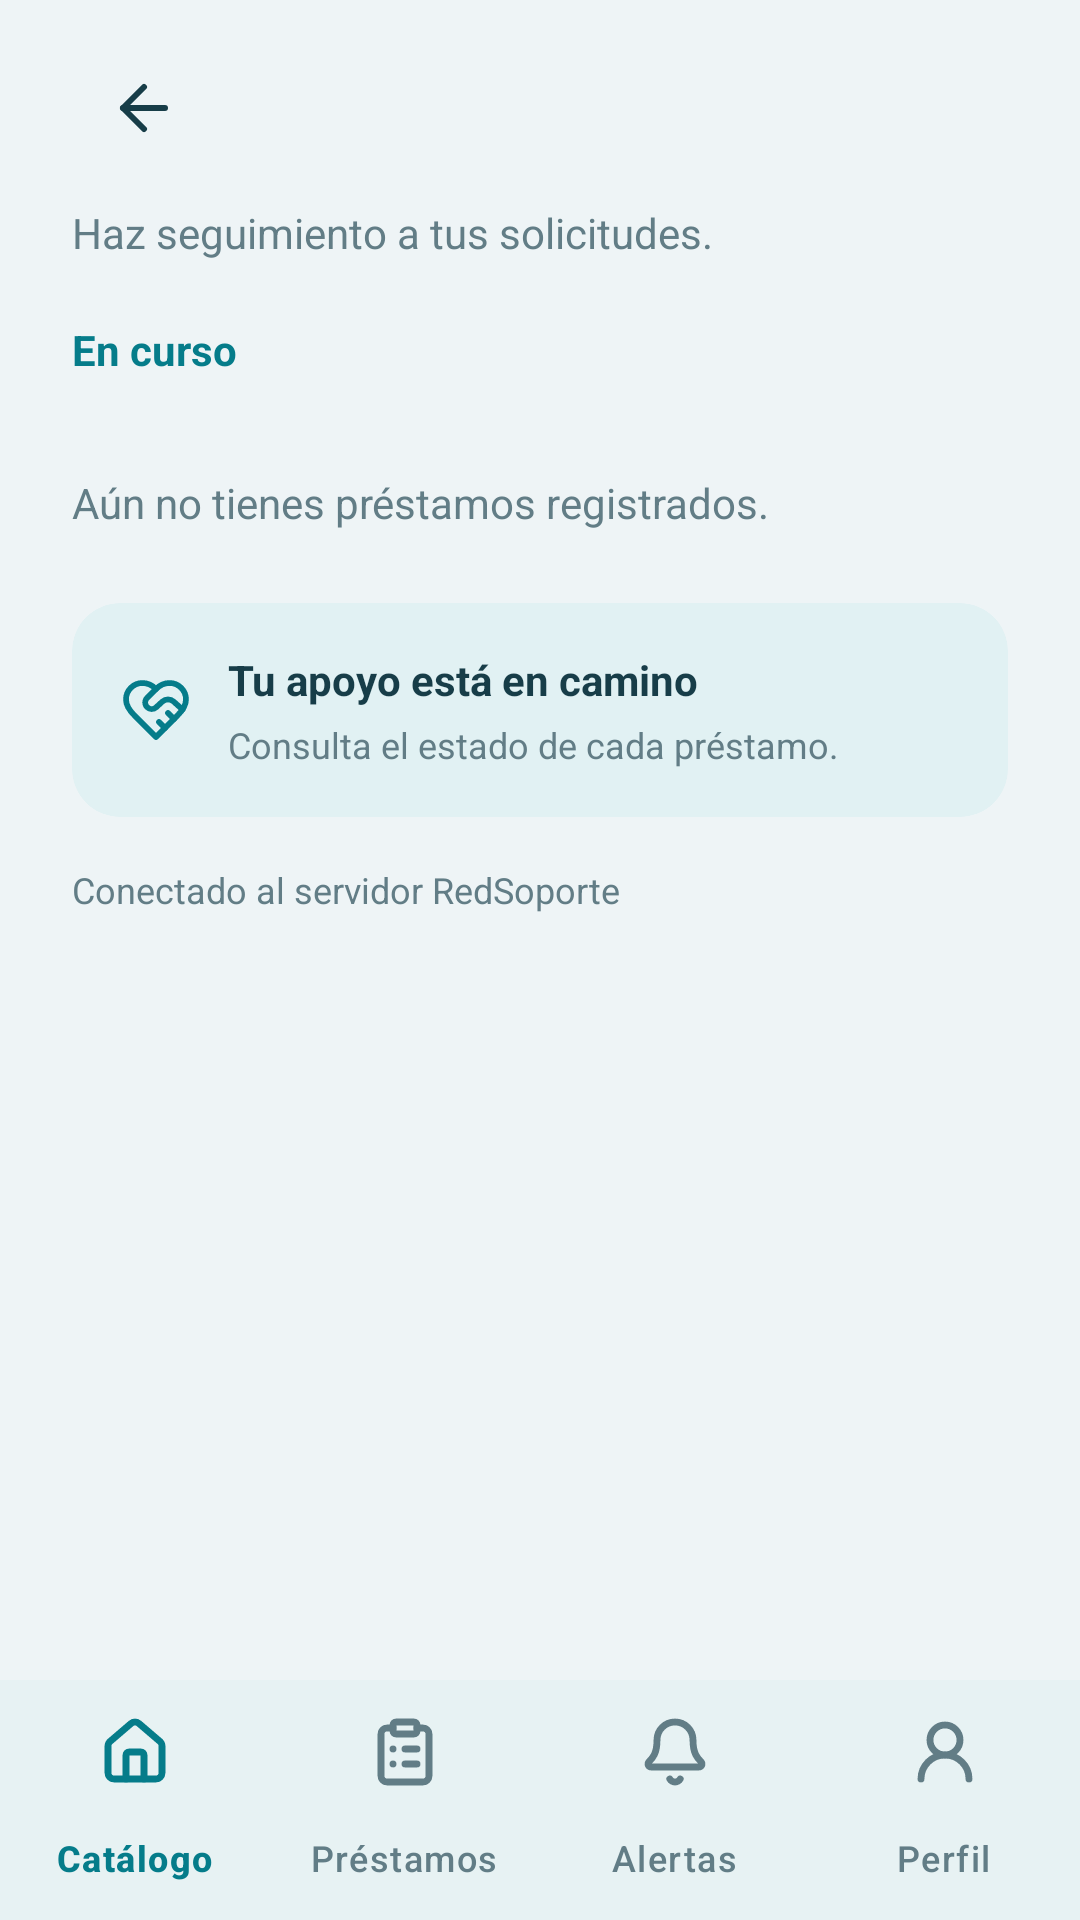

Named icons in this screenshot (1080x1920) and their centers, (x,y):
loan heart: (156,710)
Volver: (144,108)
